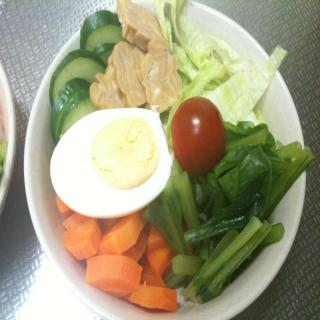tomato: (171, 95, 227, 174)
